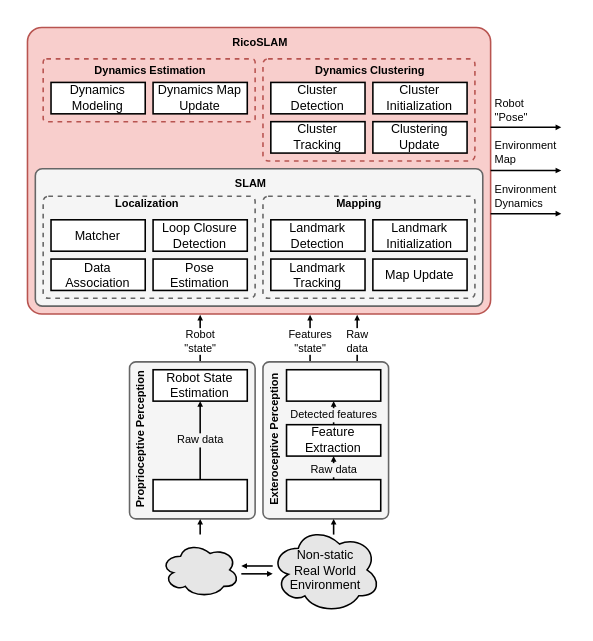
Image size: 593x641. Some labels were removed from this diagram. Each missing label, with the box of its shape:
Exteroceptive Sensing: (285, 478, 381, 511)
Feature Tracking: (285, 368, 381, 401)
Proprioceptive Sensing: (152, 478, 247, 511)
Robot: (159, 541, 239, 597)
